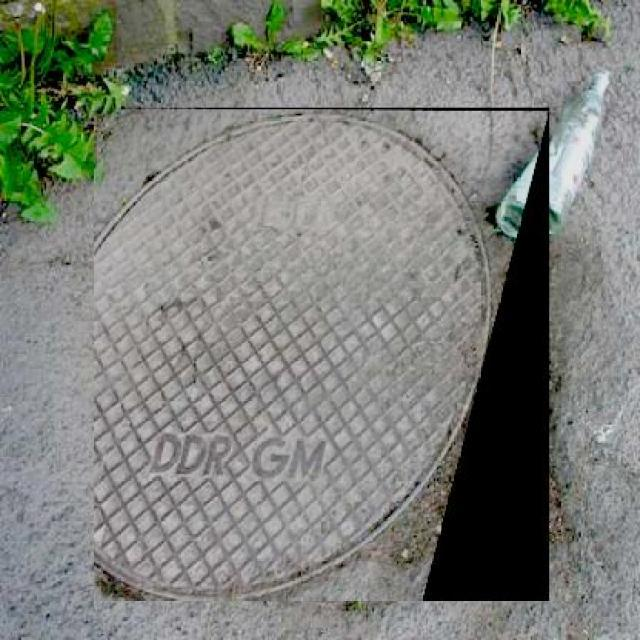Manhole: (93, 108, 550, 600)
